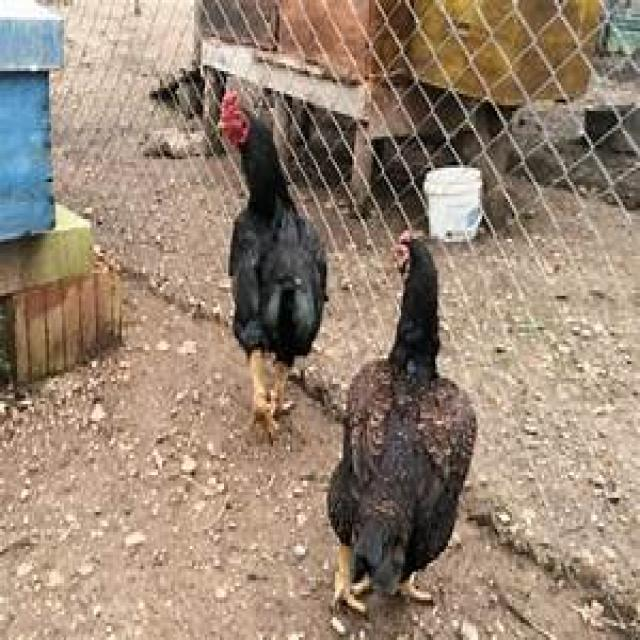hen: (326, 242, 478, 640), (218, 82, 329, 438)
